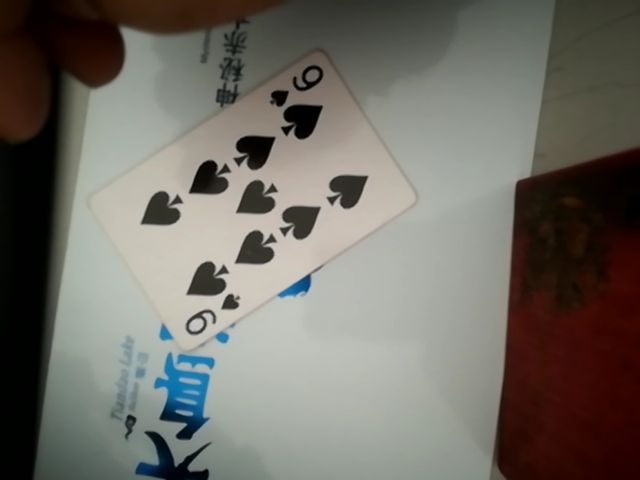ht 9: (113, 34, 413, 341)
